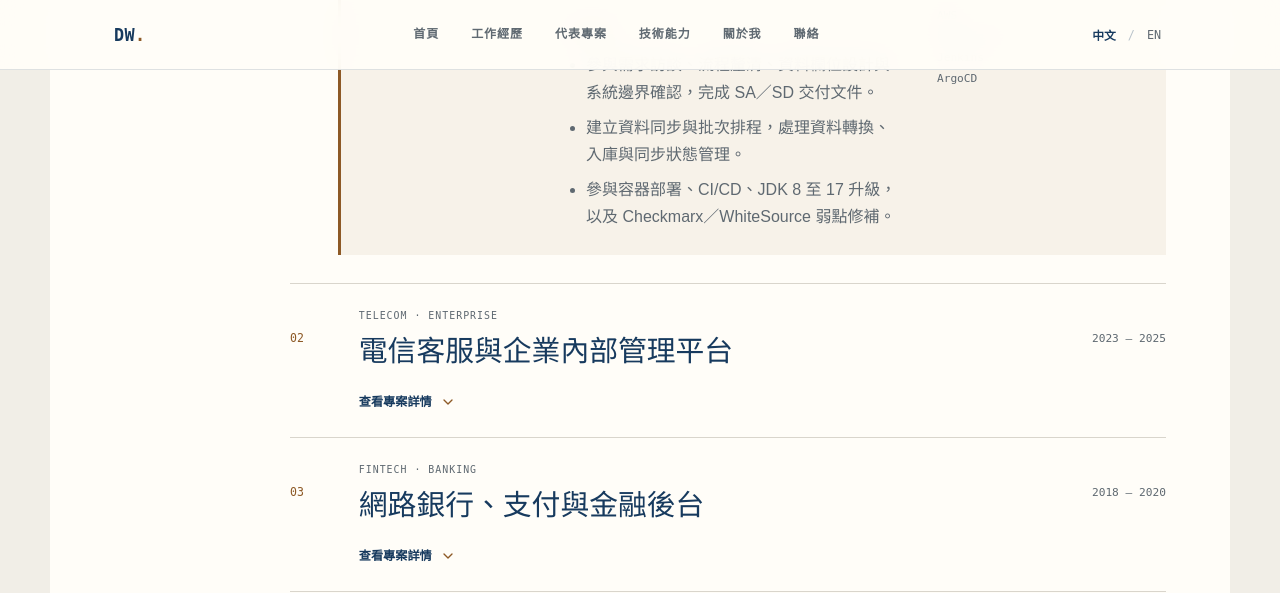
it: App › keeps only one project open when another project is selected
(page scrolled)
Click the button "02 TELECOM · ENTERPRISE 電信客服與企業內部管理平台 2023 — 2025 查看專案詳情".
click(728, 361)  # box [290,284,1166,437]
(page scrolled)
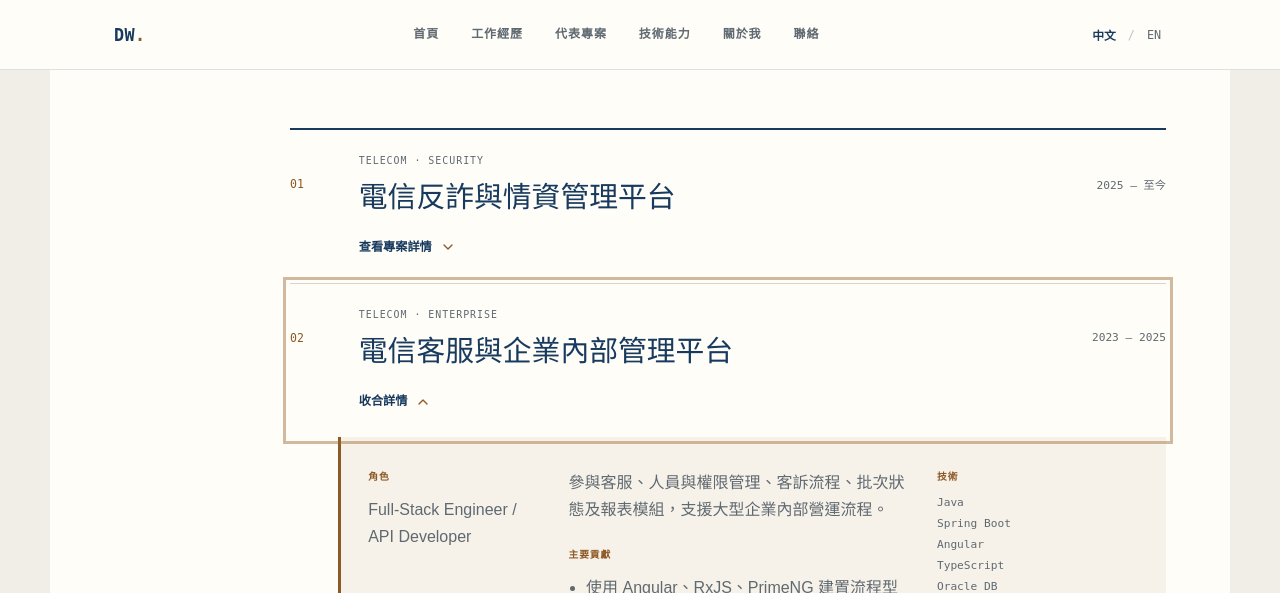
Expected: the button "01 TELECOM · SECURITY 電信反詐與情資管理平台 2025 — 至今 查看專案詳情" is collapsed, [290,130,1166,283]
Expected: the button "02 TELECOM · ENTERPRISE 電信客服與企業內部管理平台 2023 — 2025 收合詳情" is expanded, [290,284,1166,437]
